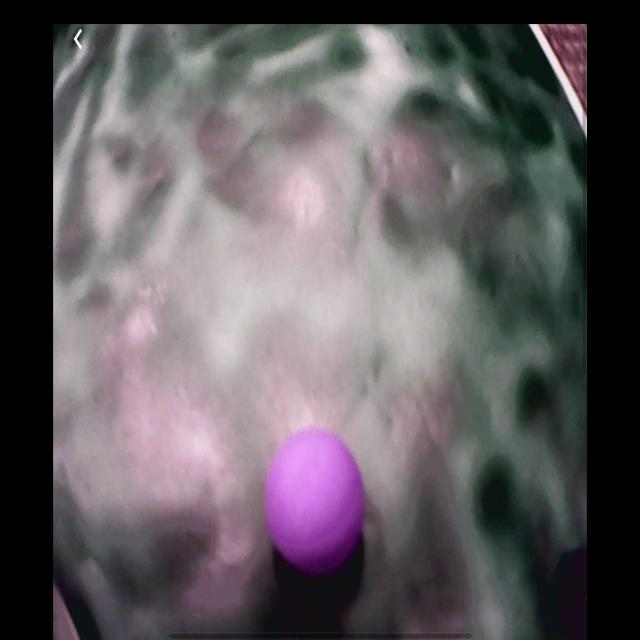ball: (265, 426, 367, 579)
